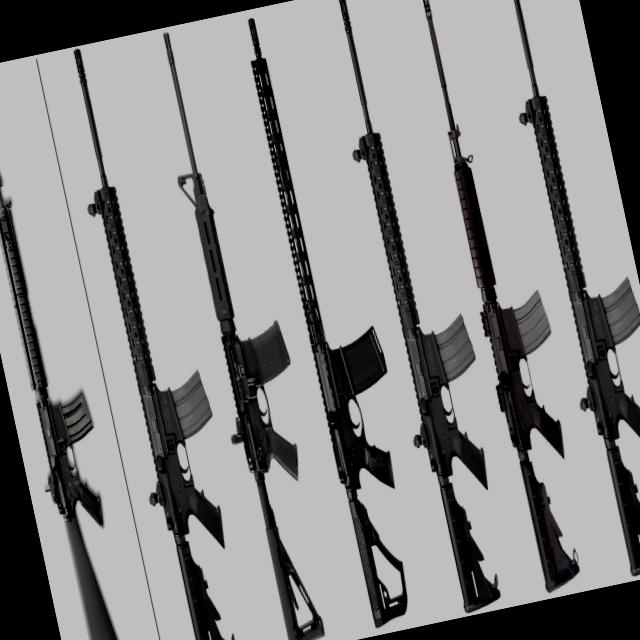long weapon: (219, 0, 440, 639), (38, 46, 258, 639), (133, 39, 347, 639), (324, 0, 511, 614), (396, 0, 593, 580), (484, 0, 639, 584), (0, 92, 154, 639)
